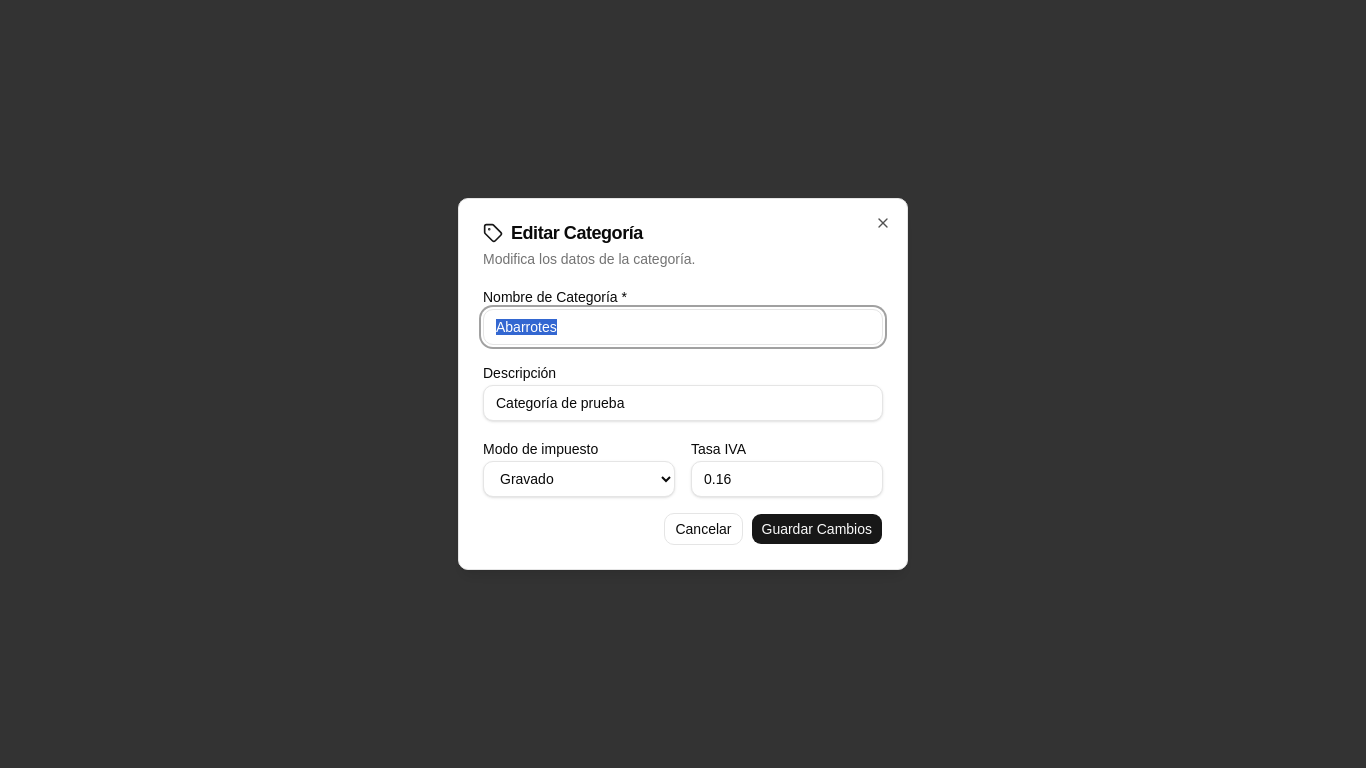
Test: CategoryDialog — tax mode behavior › allows switching to non-taxable and back to taxed
Select "No gravado" in the dropdown labelled "Modo de impuesto" at (579, 479), box [483,461,675,497]
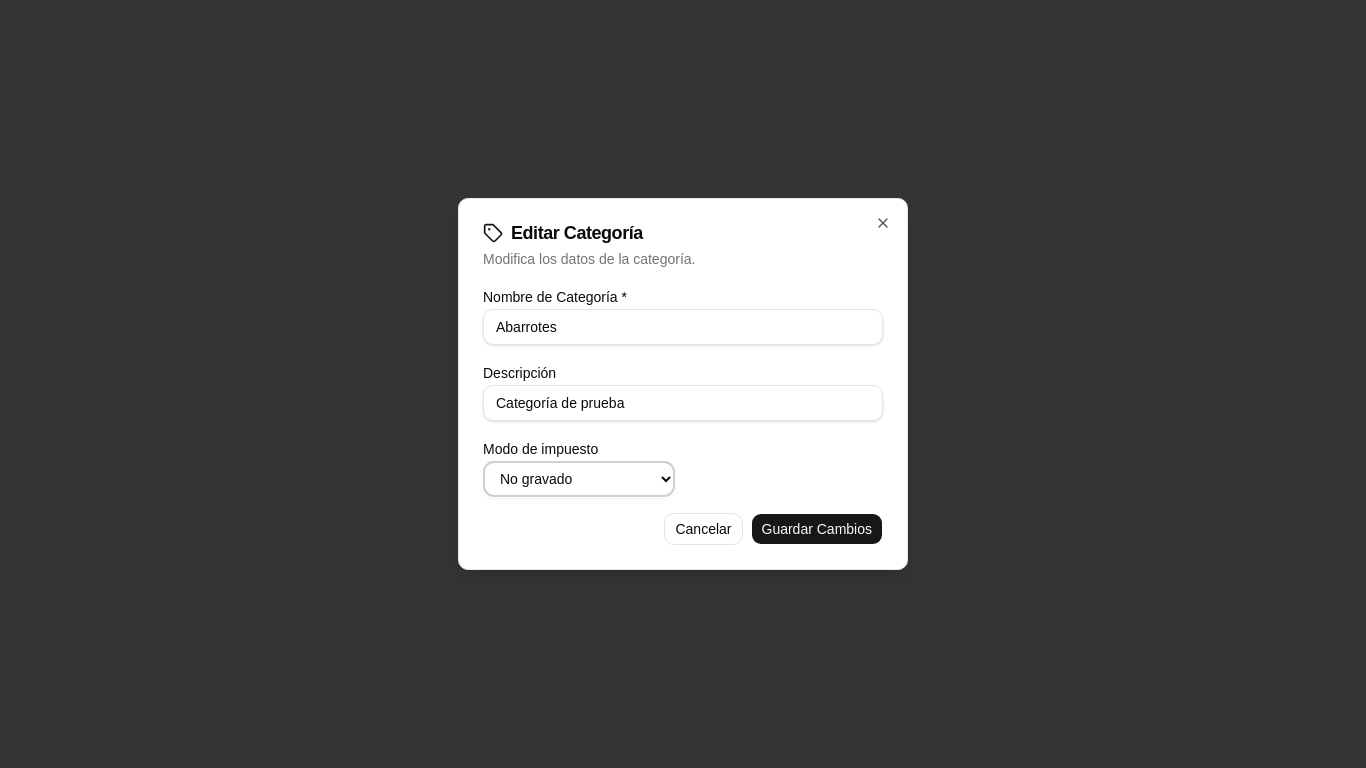
Result: the label labelled "Tasa IVA" is gone
Select "Gravado" in the dropdown labelled "Modo de impuesto" at (579, 479), box [483,461,675,497]
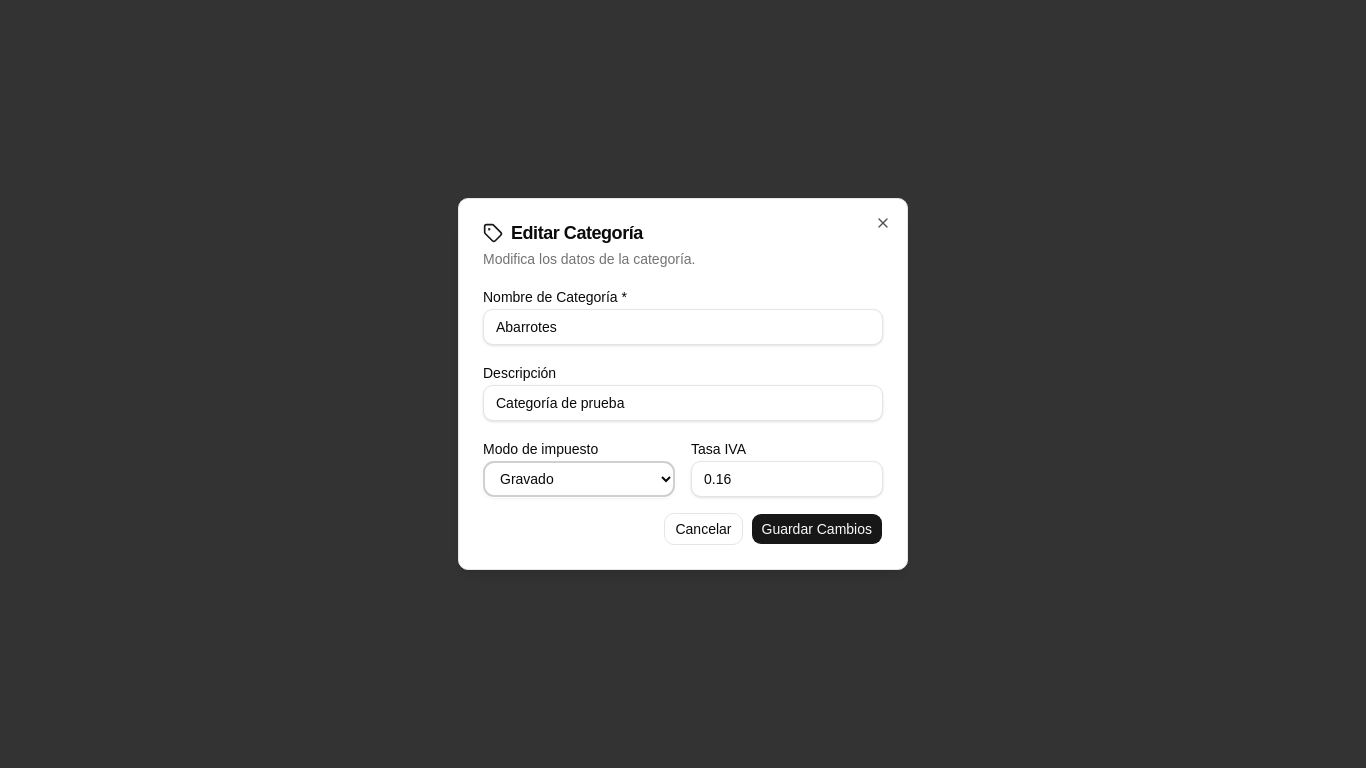
Result: the number field labelled "Tasa IVA" is shown at [691,461,883,497]
